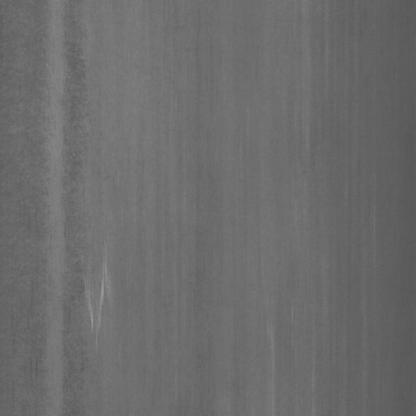silk_spot: (75, 235, 123, 350)
